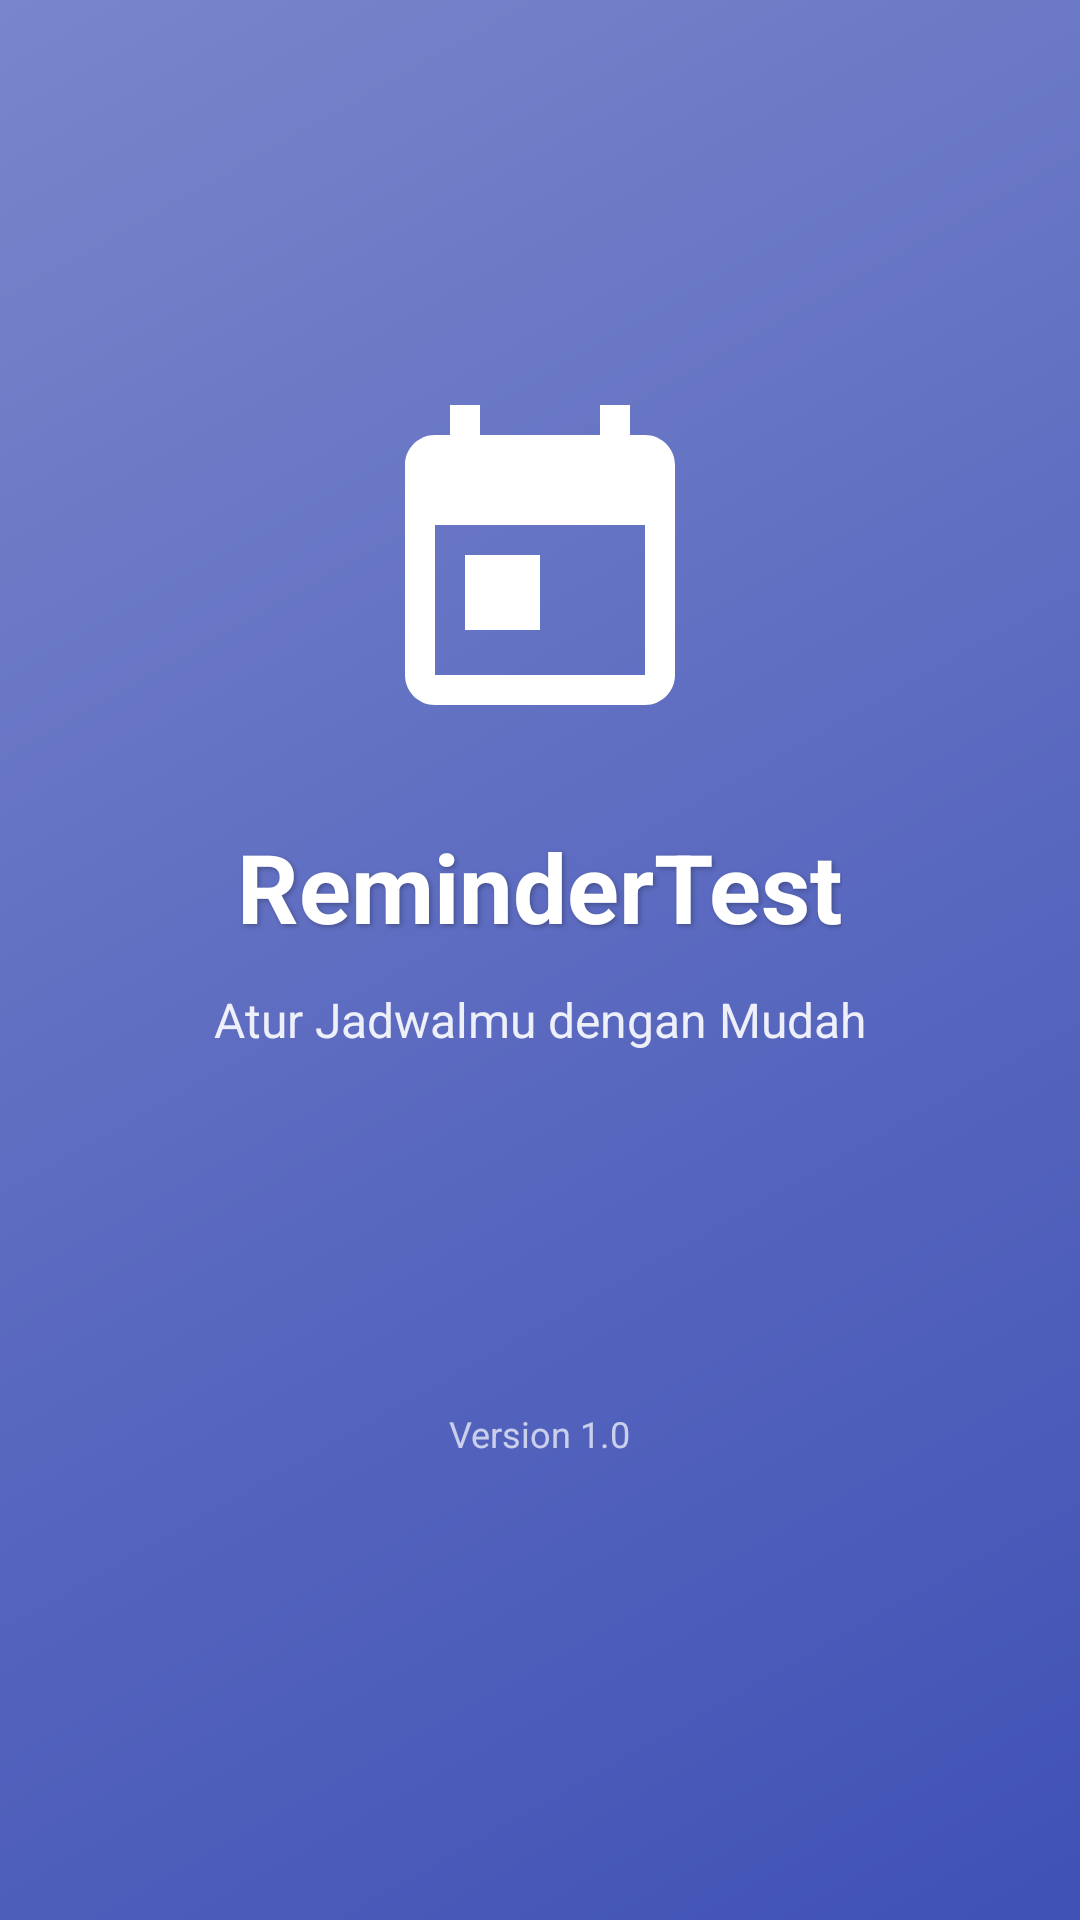

Icon bounding boxes for this 1080×1920 phone screenshot, format bbox=(x1, y1, x2, y2):
schedule: bbox=(405, 405, 675, 705)
